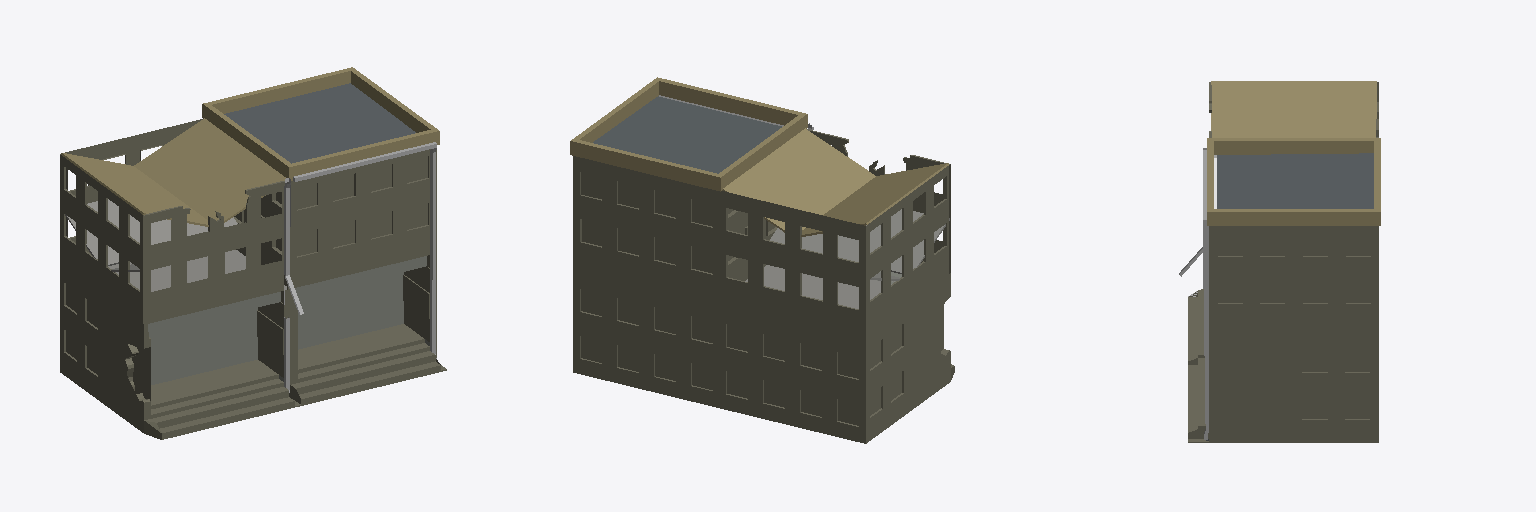
File: house_damaged.obj
The picture shows the model from 3 angles: view 1: azimuth 30°, elevation 25°; view 2: azimuth 150°, elevation 25°; view 3: azimuth 270°, elevation 25°; orthographic projection.
Visible parts, largest first — view 1: Mesh7 Group6 Model, Mesh5 Group1 Model, Mesh4 Group5 Group1 Model, Mesh1 Group2 Group1 Model, Mesh2 Group3 Group1 Model; view 2: Mesh7 Group6 Model, Mesh5 Group1 Model, Mesh4 Group5 Group1 Model, Mesh1 Group2 Group1 Model, Mesh3 Group4 Group1 Model; view 3: Mesh7 Group6 Model, Mesh1 Group2 Group1 Model, Mesh5 Group1 Model.
Boxes of the visible parts, x1,y1,x2,y2 form: Mesh7 Group6 Model: [202, 67, 446, 405]; Mesh5 Group1 Model: [60, 119, 303, 439]; Mesh4 Group5 Group1 Model: [134, 118, 285, 222]; Mesh1 Group2 Group1 Model: [61, 153, 208, 226]; Mesh2 Group3 Group1 Model: [65, 199, 237, 265]; Mesh7 Group6 Model: [570, 77, 807, 407]; Mesh5 Group1 Model: [719, 123, 954, 443]; Mesh4 Group5 Group1 Model: [722, 128, 875, 232]; Mesh1 Group2 Group1 Model: [801, 163, 948, 236]; Mesh3 Group4 Group1 Model: [770, 209, 949, 273]; Mesh7 Group6 Model: [1188, 138, 1380, 442]; Mesh1 Group2 Group1 Model: [1211, 81, 1376, 137]; Mesh5 Group1 Model: [1179, 82, 1378, 363].
Size of the model in its own units: 10.07 by 7.59 by 5.98.